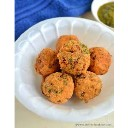bonda: (60, 41, 89, 74), (41, 74, 73, 102), (75, 72, 101, 100), (36, 48, 59, 73), (90, 48, 112, 72)
